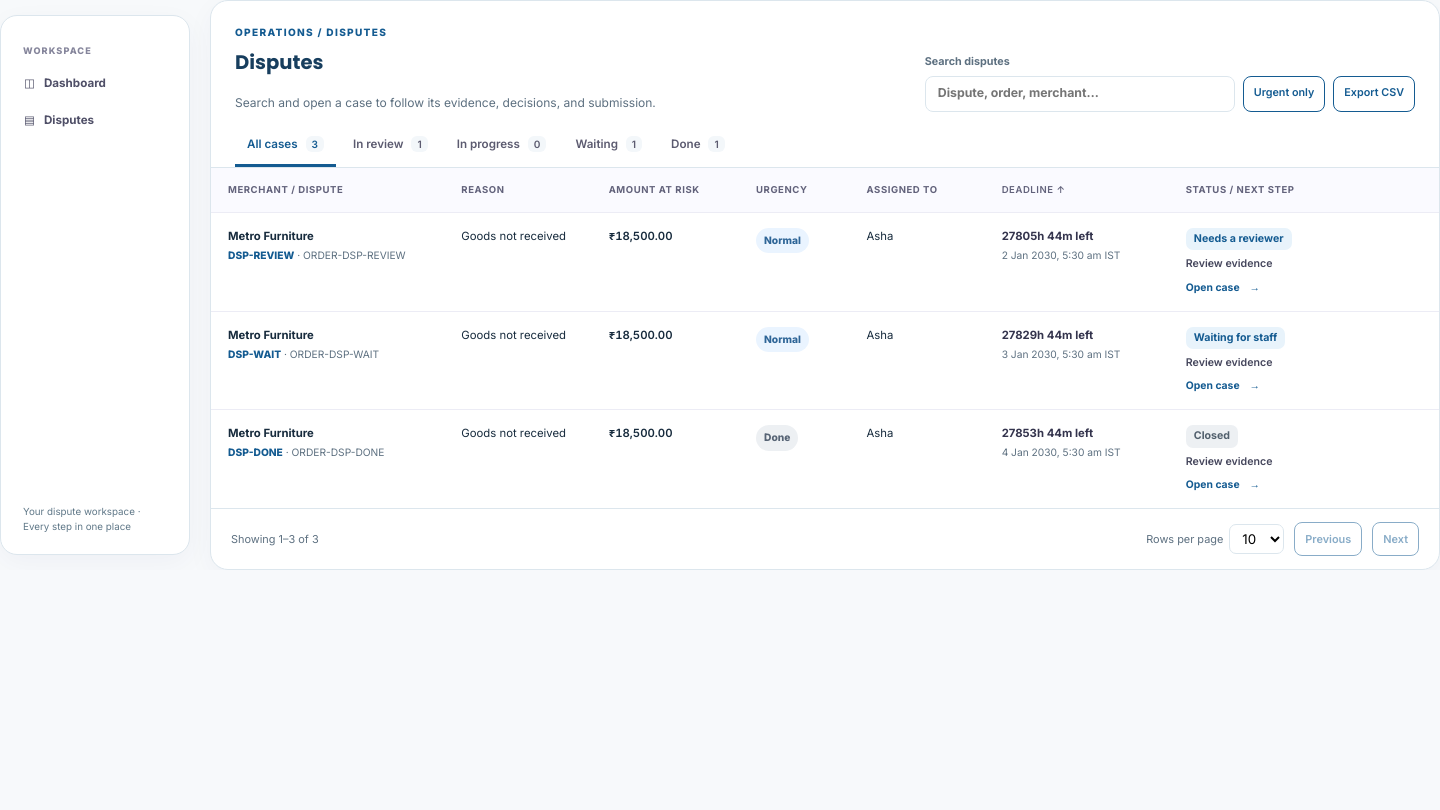
Test: navigation and case workflow › filters the dispute queue by recorded workflow state
Click the button "In review 1" at (390, 147), box [341,127,440,167]
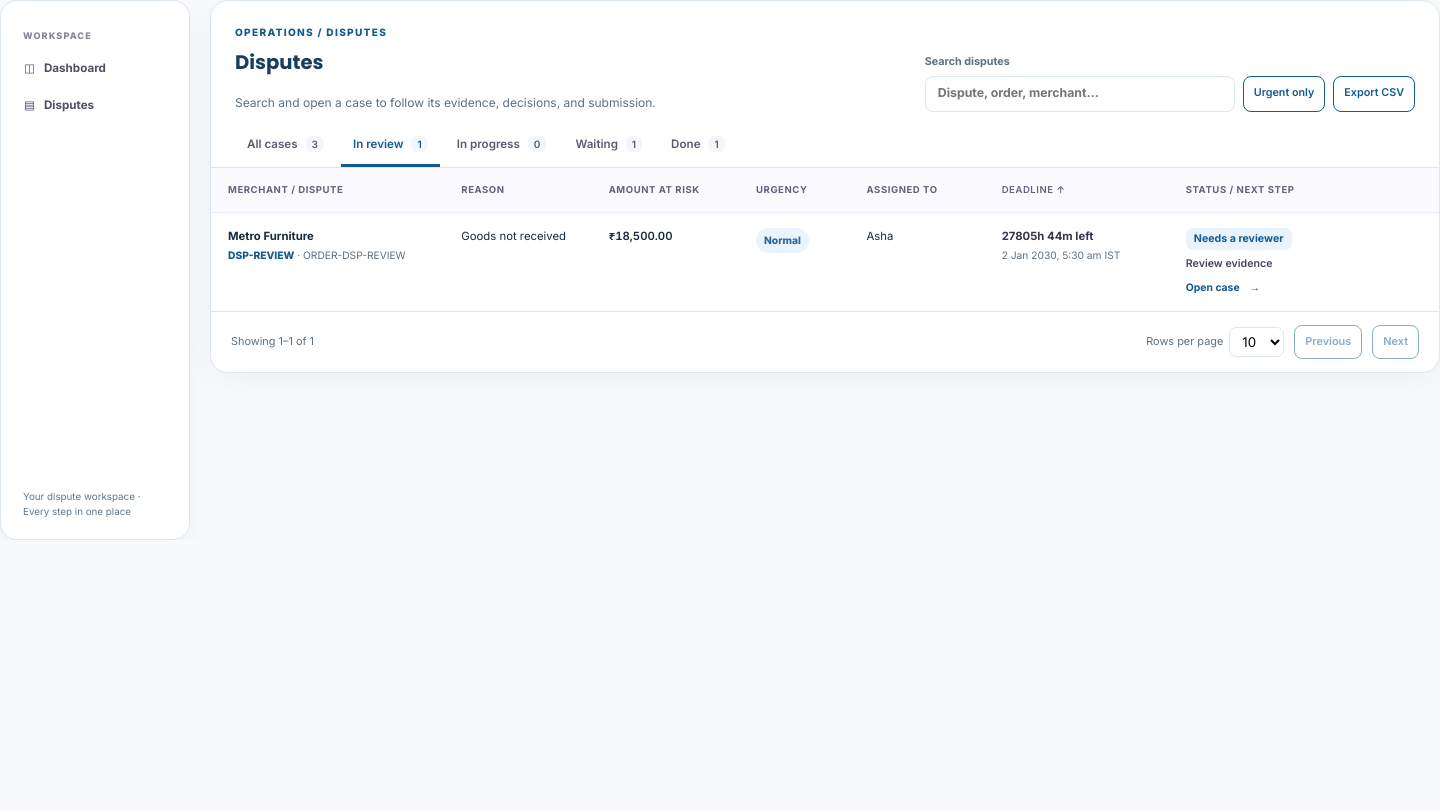
expect the link "DSP-REVIEW" is shown: met, box [228,249,294,261]
expect the link "DSP-WAIT" is gone: met
Click the button "Done 1" at (698, 147), box [659,127,737,167]
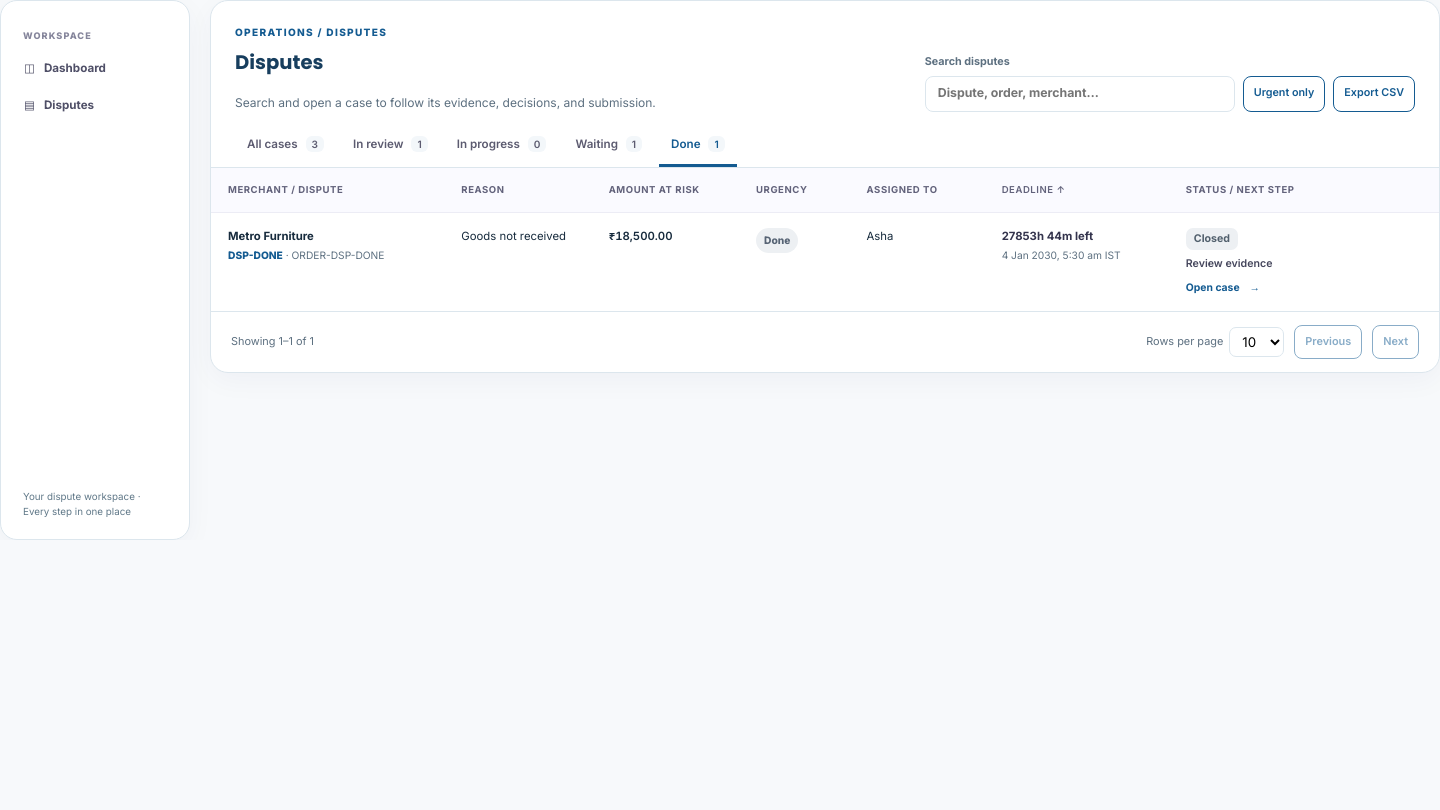
expect the link "DSP-DONE" is shown: met, box [228,249,283,261]
